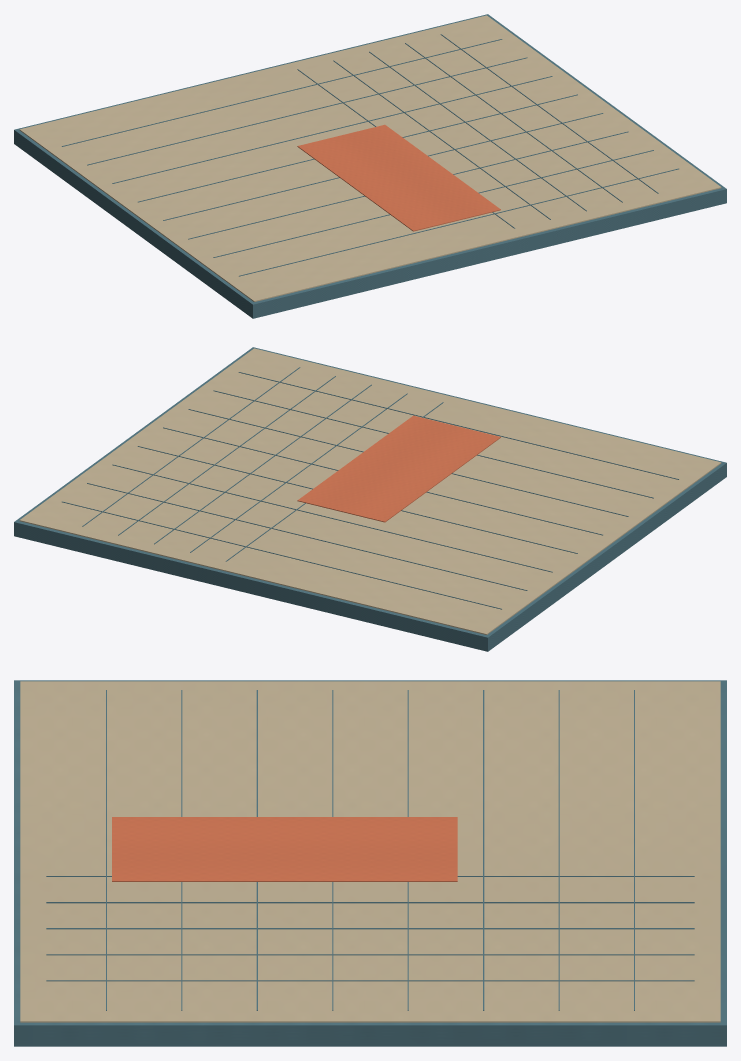
The model's file is atlas100-s042-a07.lod2.glb.
The picture shows the model from 3 angles, top to bottom: view 1: azimuth 30°, elevation 25°; view 2: azimuth 150°, elevation 25°; view 3: azimuth 270°, elevation 25°; orthographic projection. The views are drawn at different scales.
Parts seen in each view (by area): view 1: atlas100-s042-a07:part-001, atlas100-s042-a07:part-000, atlas100-s042-a07:part-021, atlas100-s042-a07:part-014, atlas100-s042-a07:part-020, atlas100-s042-a07:part-015, atlas100-s042-a07:part-013, atlas100-s042-a07:part-018, atlas100-s042-a07:part-019, atlas100-s042-a07:part-017, atlas100-s042-a07:part-016; view 2: atlas100-s042-a07:part-001, atlas100-s042-a07:part-000, atlas100-s042-a07:part-021, atlas100-s042-a07:part-015, atlas100-s042-a07:part-013, atlas100-s042-a07:part-014, atlas100-s042-a07:part-020, atlas100-s042-a07:part-016, atlas100-s042-a07:part-017, atlas100-s042-a07:part-018, atlas100-s042-a07:part-019; view 3: atlas100-s042-a07:part-001, atlas100-s042-a07:part-000, atlas100-s042-a07:part-021, atlas100-s042-a07:part-009, atlas100-s042-a07:part-010, atlas100-s042-a07:part-011, atlas100-s042-a07:part-012, atlas100-s042-a07:part-014, atlas100-s042-a07:part-015.
Part boxes in pixels (<box>): atlas100-s042-a07:part-001: <box>19,15,721,301</box>; atlas100-s042-a07:part-000: <box>14,14,726,318</box>; atlas100-s042-a07:part-021: <box>297,124,500,231</box>; atlas100-s042-a07:part-014: <box>87,57,527,165</box>; atlas100-s042-a07:part-020: <box>239,168,678,276</box>; atlas100-s042-a07:part-015: <box>112,76,552,183</box>; atlas100-s042-a07:part-013: <box>62,39,502,146</box>; atlas100-s042-a07:part-018: <box>188,131,628,239</box>; atlas100-s042-a07:part-019: <box>213,150,653,257</box>; atlas100-s042-a07:part-017: <box>163,113,603,220</box>; atlas100-s042-a07:part-016: <box>138,94,577,202</box>; atlas100-s042-a07:part-001: <box>19,348,721,634</box>; atlas100-s042-a07:part-000: <box>14,347,726,651</box>; atlas100-s042-a07:part-021: <box>297,415,500,522</box>; atlas100-s042-a07:part-015: <box>112,464,552,572</box>; atlas100-s042-a07:part-013: <box>62,501,501,609</box>; atlas100-s042-a07:part-014: <box>87,483,527,590</box>; atlas100-s042-a07:part-020: <box>238,372,678,479</box>; atlas100-s042-a07:part-016: <box>137,446,577,553</box>; atlas100-s042-a07:part-017: <box>163,427,602,535</box>; atlas100-s042-a07:part-018: <box>188,409,628,516</box>; atlas100-s042-a07:part-019: <box>213,390,653,498</box>; atlas100-s042-a07:part-001: <box>20,681,720,1022</box>; atlas100-s042-a07:part-000: <box>14,680,726,1046</box>; atlas100-s042-a07:part-021: <box>112,817,457,881</box>; atlas100-s042-a07:part-009: <box>46,902,694,903</box>; atlas100-s042-a07:part-010: <box>46,928,694,929</box>; atlas100-s042-a07:part-011: <box>46,954,694,955</box>; atlas100-s042-a07:part-012: <box>46,980,694,981</box>; atlas100-s042-a07:part-014: <box>558,690,559,1010</box>; atlas100-s042-a07:part-015: <box>483,690,484,1010</box>.
Bounding box in the file's own units: 11.9 × 0.404 × 10.4.
Materials: 3 (3 with a texture image).
